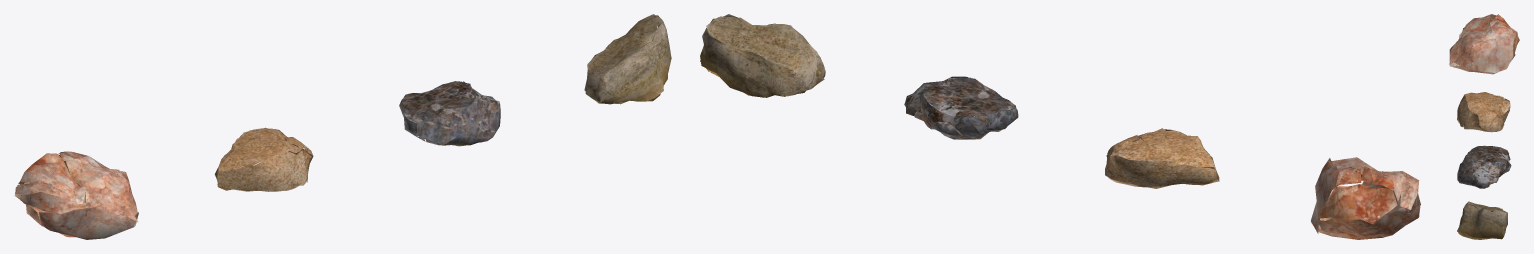
Rendered from namaqualand_rocks_01_lod1.glb.
3 renders of one model, left to right at view 1: azimuth 30°, elevation 25°; view 2: azimuth 150°, elevation 25°; view 3: azimuth 270°, elevation 25°, orthographic. The views are drawn at different scales.
Parts seen in each view (by area): view 1: namaqualand_rocks_02_a, namaqualand_rocks_02_d, namaqualand_rocks_02_c, namaqualand_rocks_02_b; view 2: namaqualand_rocks_02_d, namaqualand_rocks_02_a, namaqualand_rocks_02_b, namaqualand_rocks_02_c; view 3: namaqualand_rocks_02_a, namaqualand_rocks_02_b, namaqualand_rocks_02_c, namaqualand_rocks_02_d.
Boxes of the visible parts, x1,y1,x2,y2 form: namaqualand_rocks_02_a: (14, 151, 138, 239); namaqualand_rocks_02_d: (584, 14, 671, 104); namaqualand_rocks_02_c: (399, 81, 500, 146); namaqualand_rocks_02_b: (214, 127, 313, 191); namaqualand_rocks_02_d: (700, 14, 825, 97); namaqualand_rocks_02_a: (1310, 157, 1420, 239); namaqualand_rocks_02_b: (1105, 128, 1219, 188); namaqualand_rocks_02_c: (904, 76, 1018, 139); namaqualand_rocks_02_a: (1449, 14, 1519, 74); namaqualand_rocks_02_b: (1457, 92, 1510, 132); namaqualand_rocks_02_c: (1457, 145, 1511, 188); namaqualand_rocks_02_d: (1457, 201, 1507, 239).
Size of the model in its own units: 1.45 by 0.1501 by 0.2145.
Materials: 1 (1 with a texture image).
